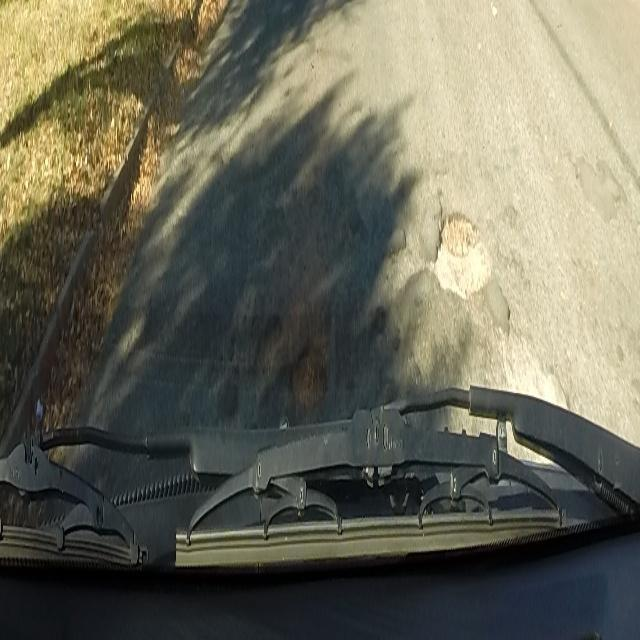pothole: (248, 315, 330, 421), (432, 202, 492, 300)
